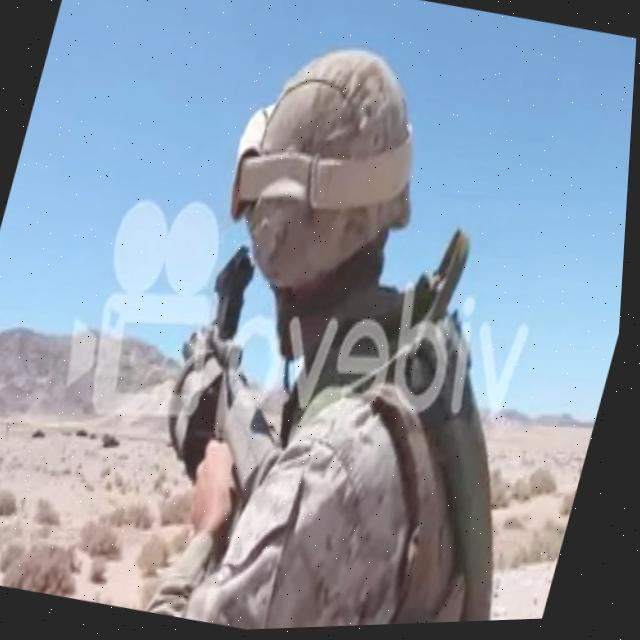rocket: (125, 229, 348, 530)
